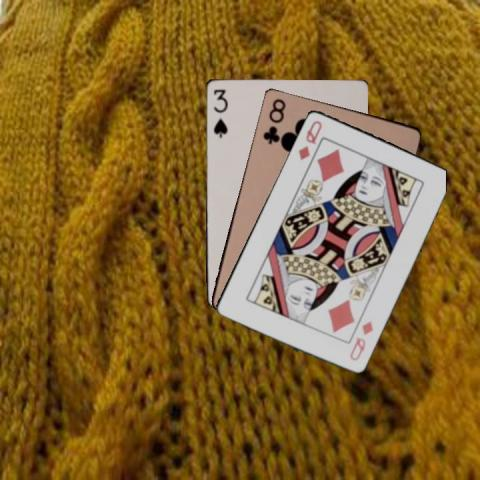3s: (210, 86, 228, 138)
8c: (259, 96, 287, 146)
Qd: (295, 117, 323, 161), (346, 318, 374, 362)
